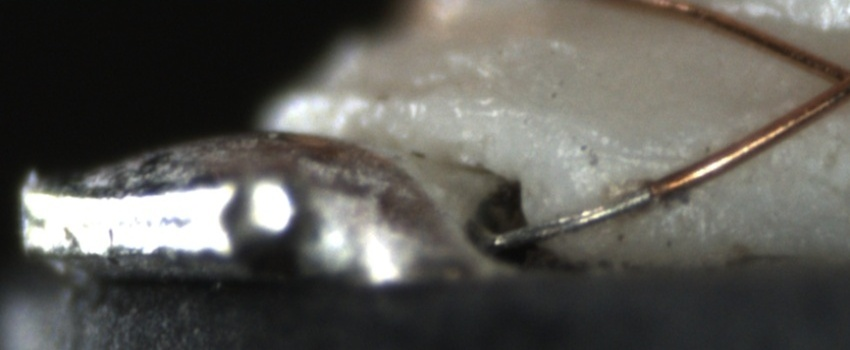CL: (803, 51, 850, 115)
DL: (571, 123, 707, 187)
TS: (492, 184, 655, 247)
